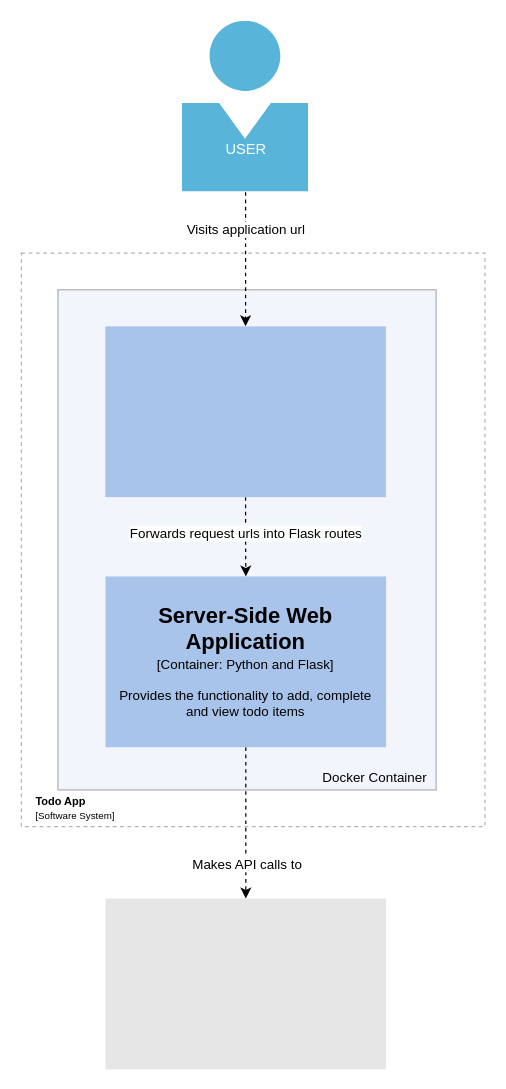
The diagram is 506 pixels wide and 1089 high, and some of its shapes have lost their labels. Each missing label, with the centre of its shape:
"Trello [Software System] Stores all the todo items including their state" goes at (245,983).
"Web Server [Container: Gunicorn] Provides a WSGI http server" goes at (245,411).
